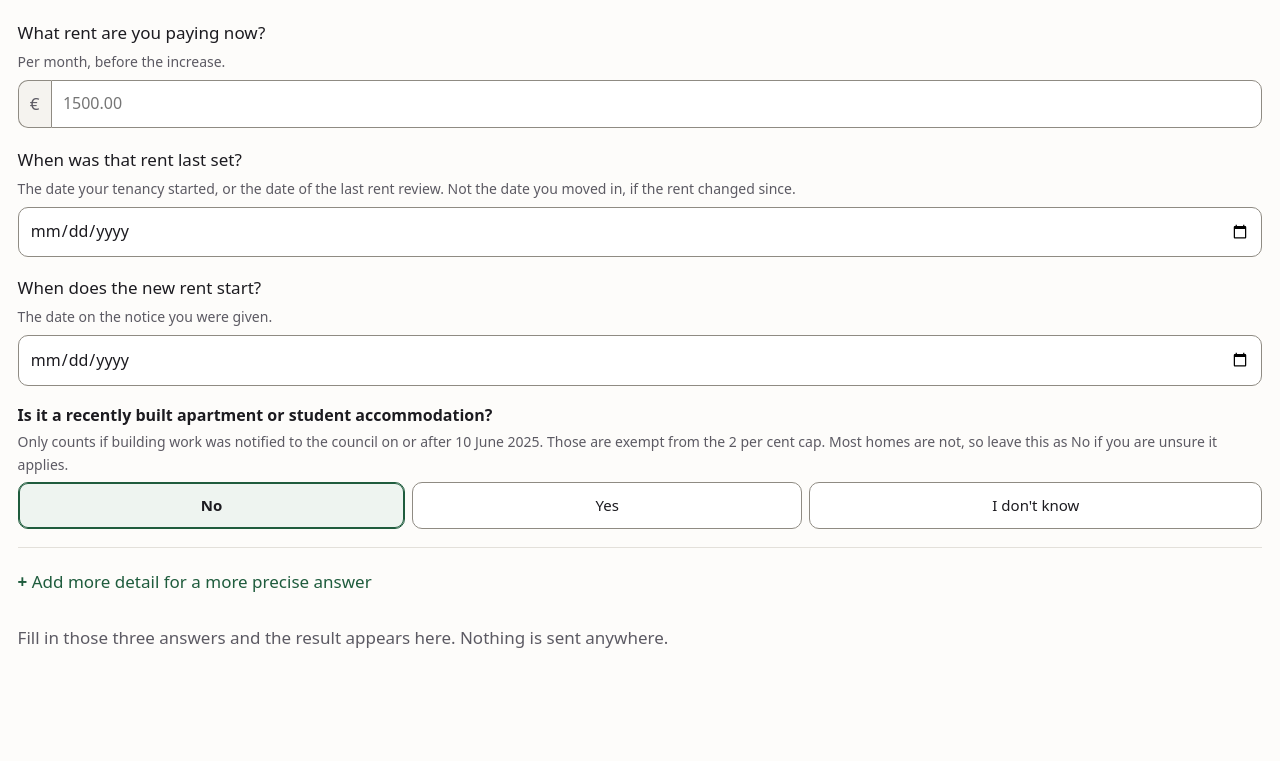
Test: the rent check, end to end through the form › accepts a proposed rent that is within the limit
Type "2000" into the field labelled "What rent are you paying now?" at (657, 104), box [51,80,1262,128]
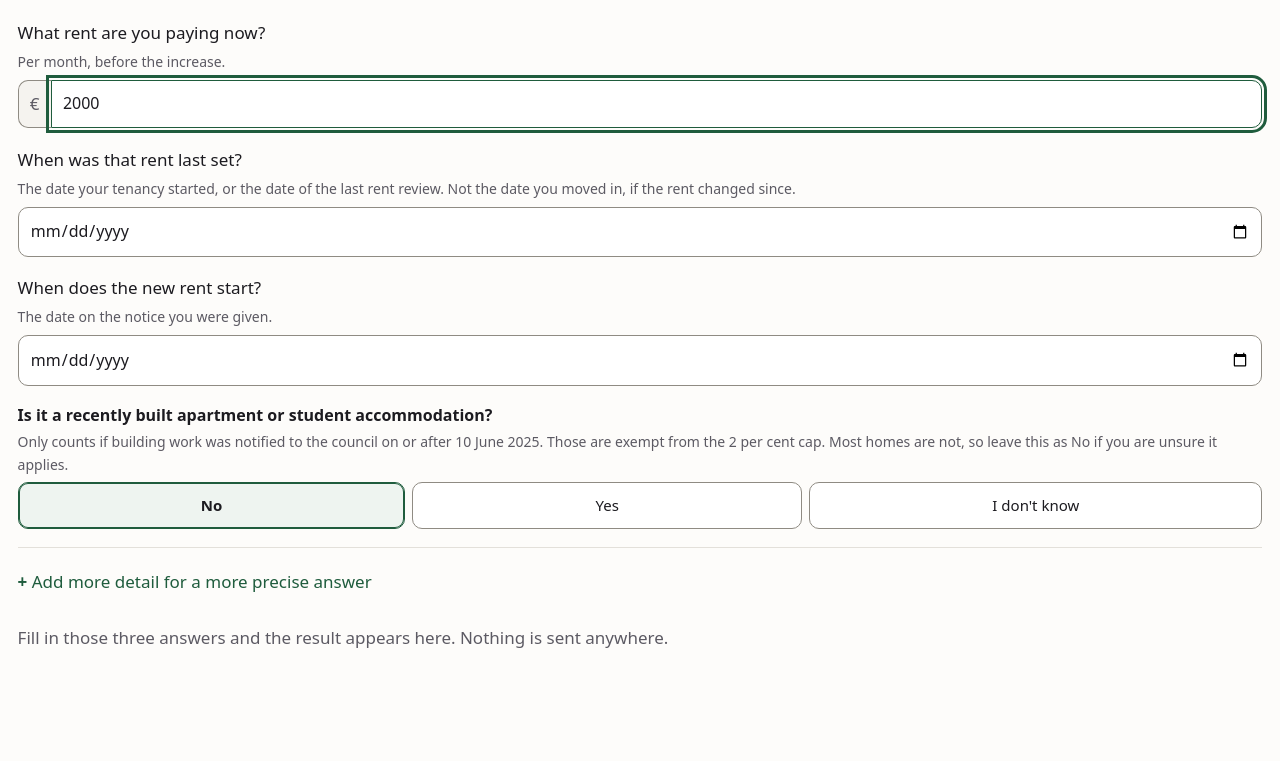
Type "2025-06-01" into the date field labelled "When was that rent last set?" at (640, 232), box [18,206,1262,257]
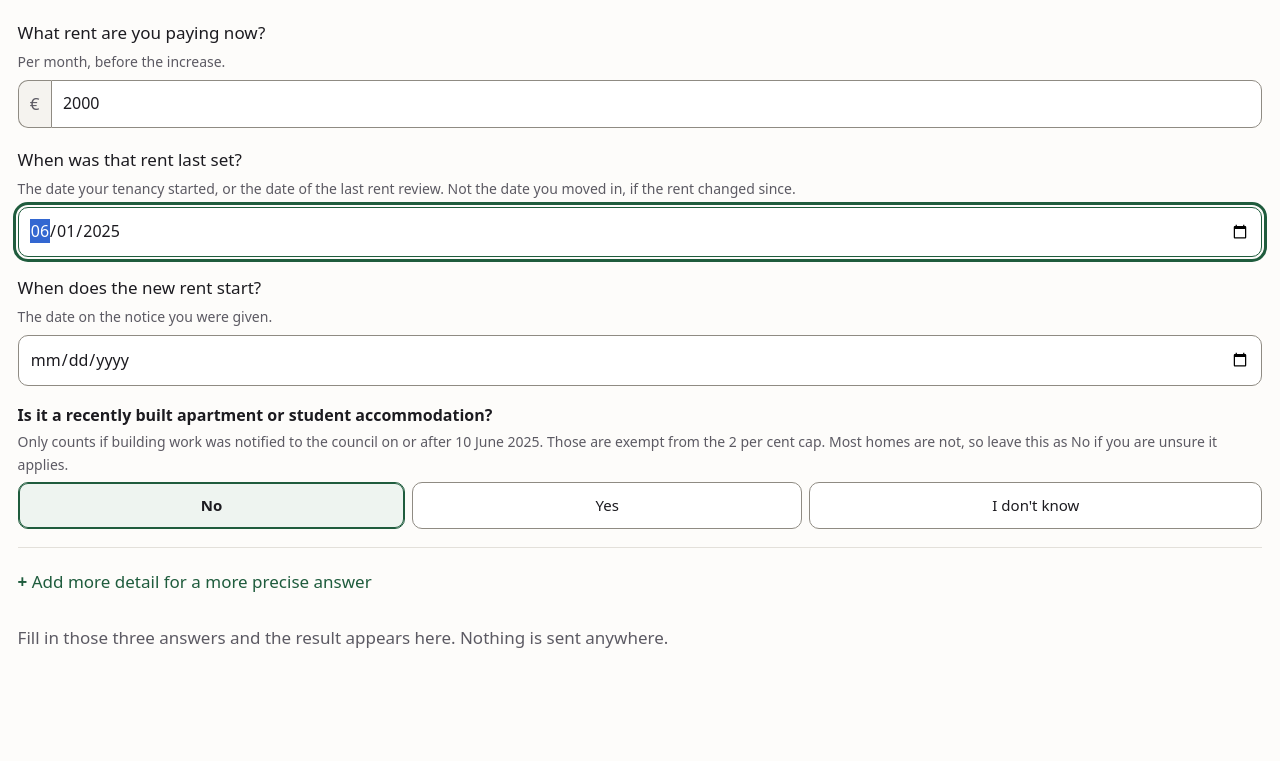
Type "2026-09-01" into the date field labelled "When does the new rent start?" at (640, 360), box [18,335,1262,386]
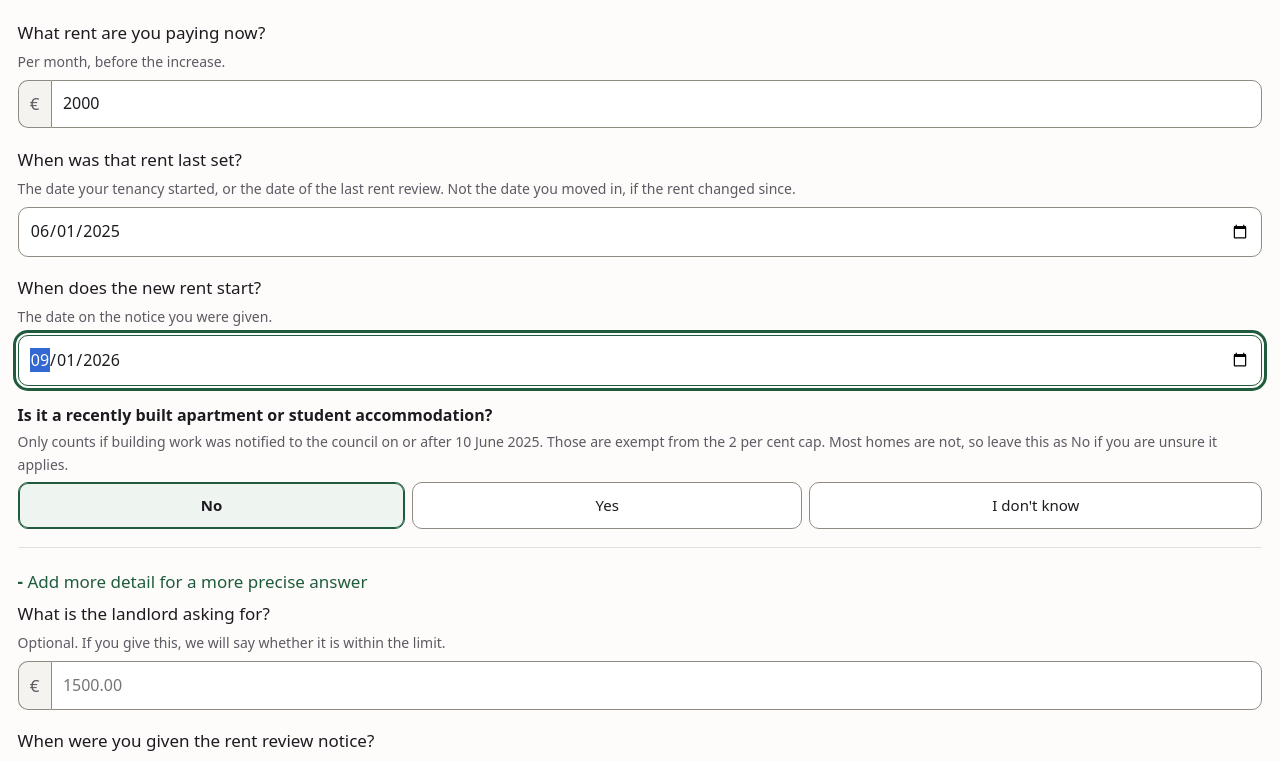
Type "2040" into the field labelled "What is the landlord asking for?" at (657, 685), box [51,661,1262,710]
(page scrolled)
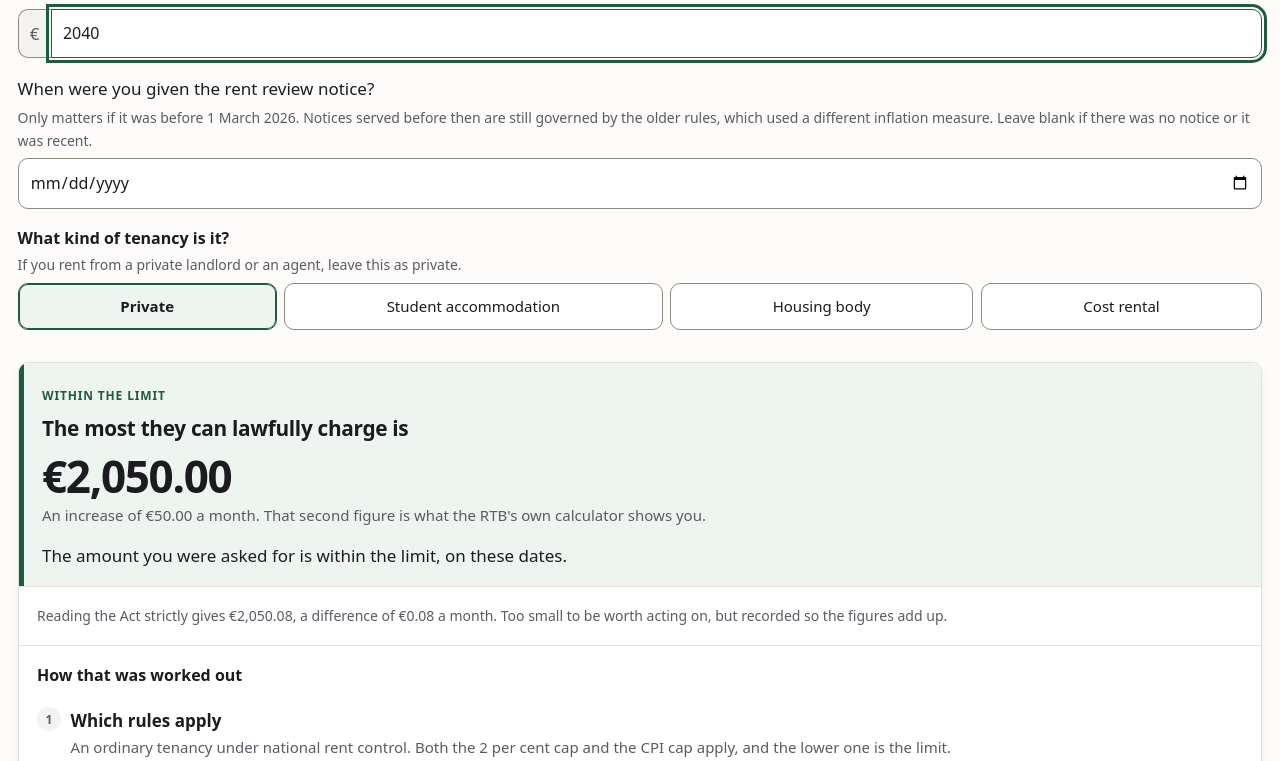
expect the text "Within the limit" is shown: met, box [42,386,166,406]
